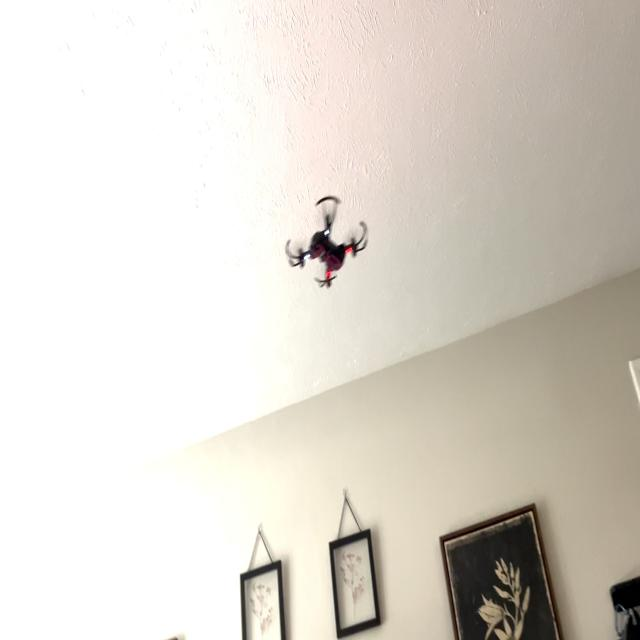drone: (270, 176, 380, 302)
